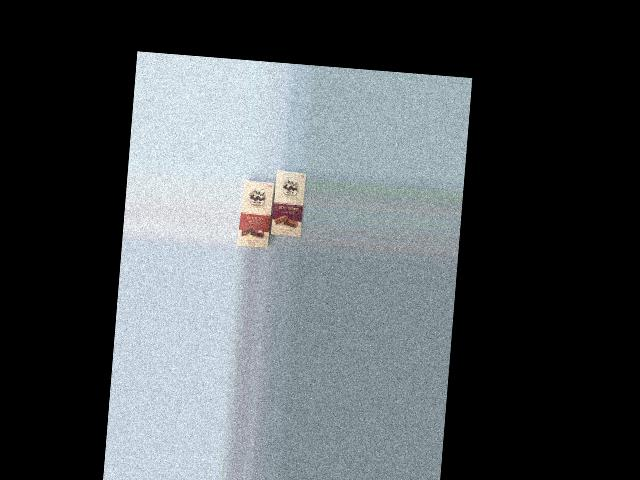chocolate: (235, 176, 281, 250)
